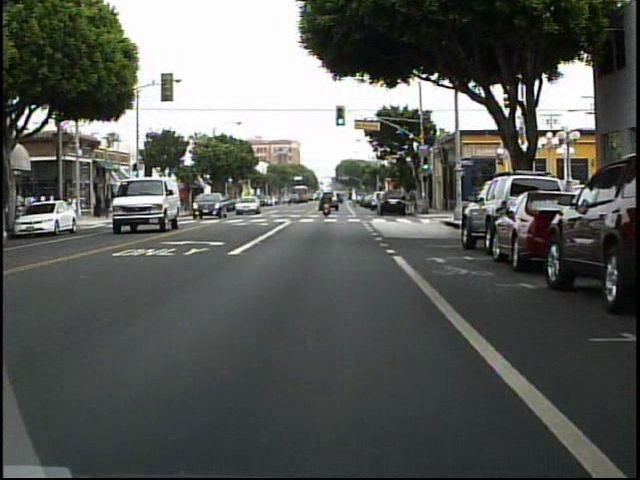person: (66, 188, 81, 227), (321, 189, 337, 219), (104, 191, 115, 221), (95, 192, 106, 222)
